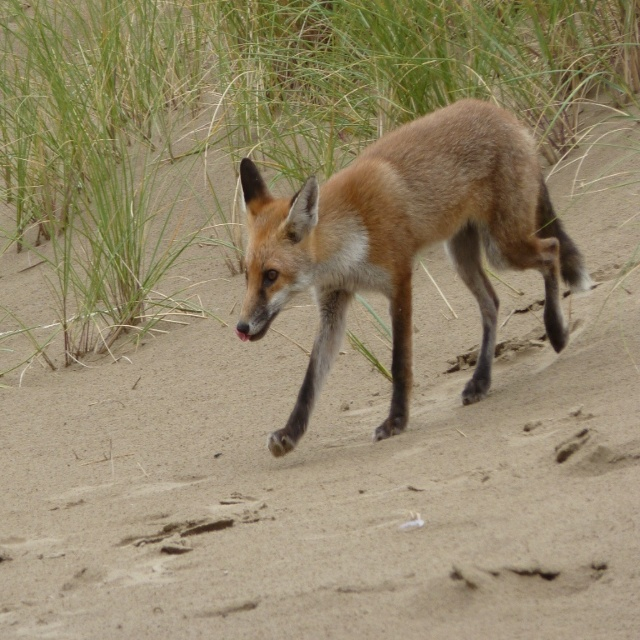Fox: (235, 99, 593, 458)
